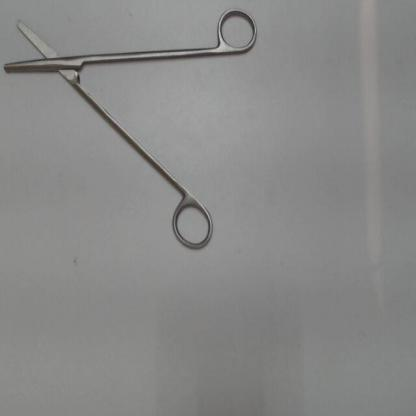9 Metzenbaum Scissors: (2, 3, 263, 258)
